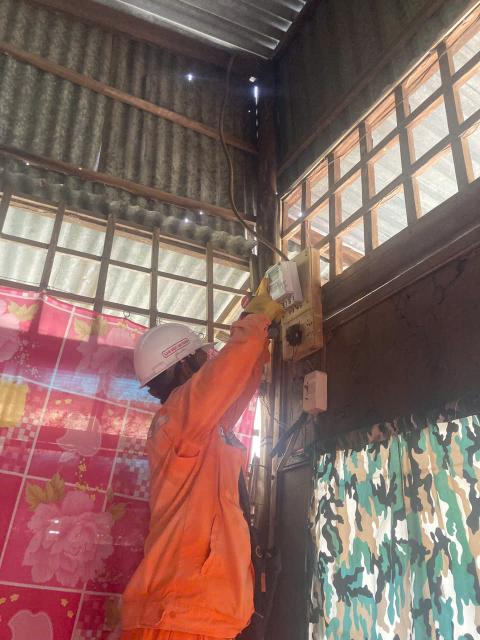gloves: (238, 275, 287, 331)
helmet: (111, 310, 214, 392)
